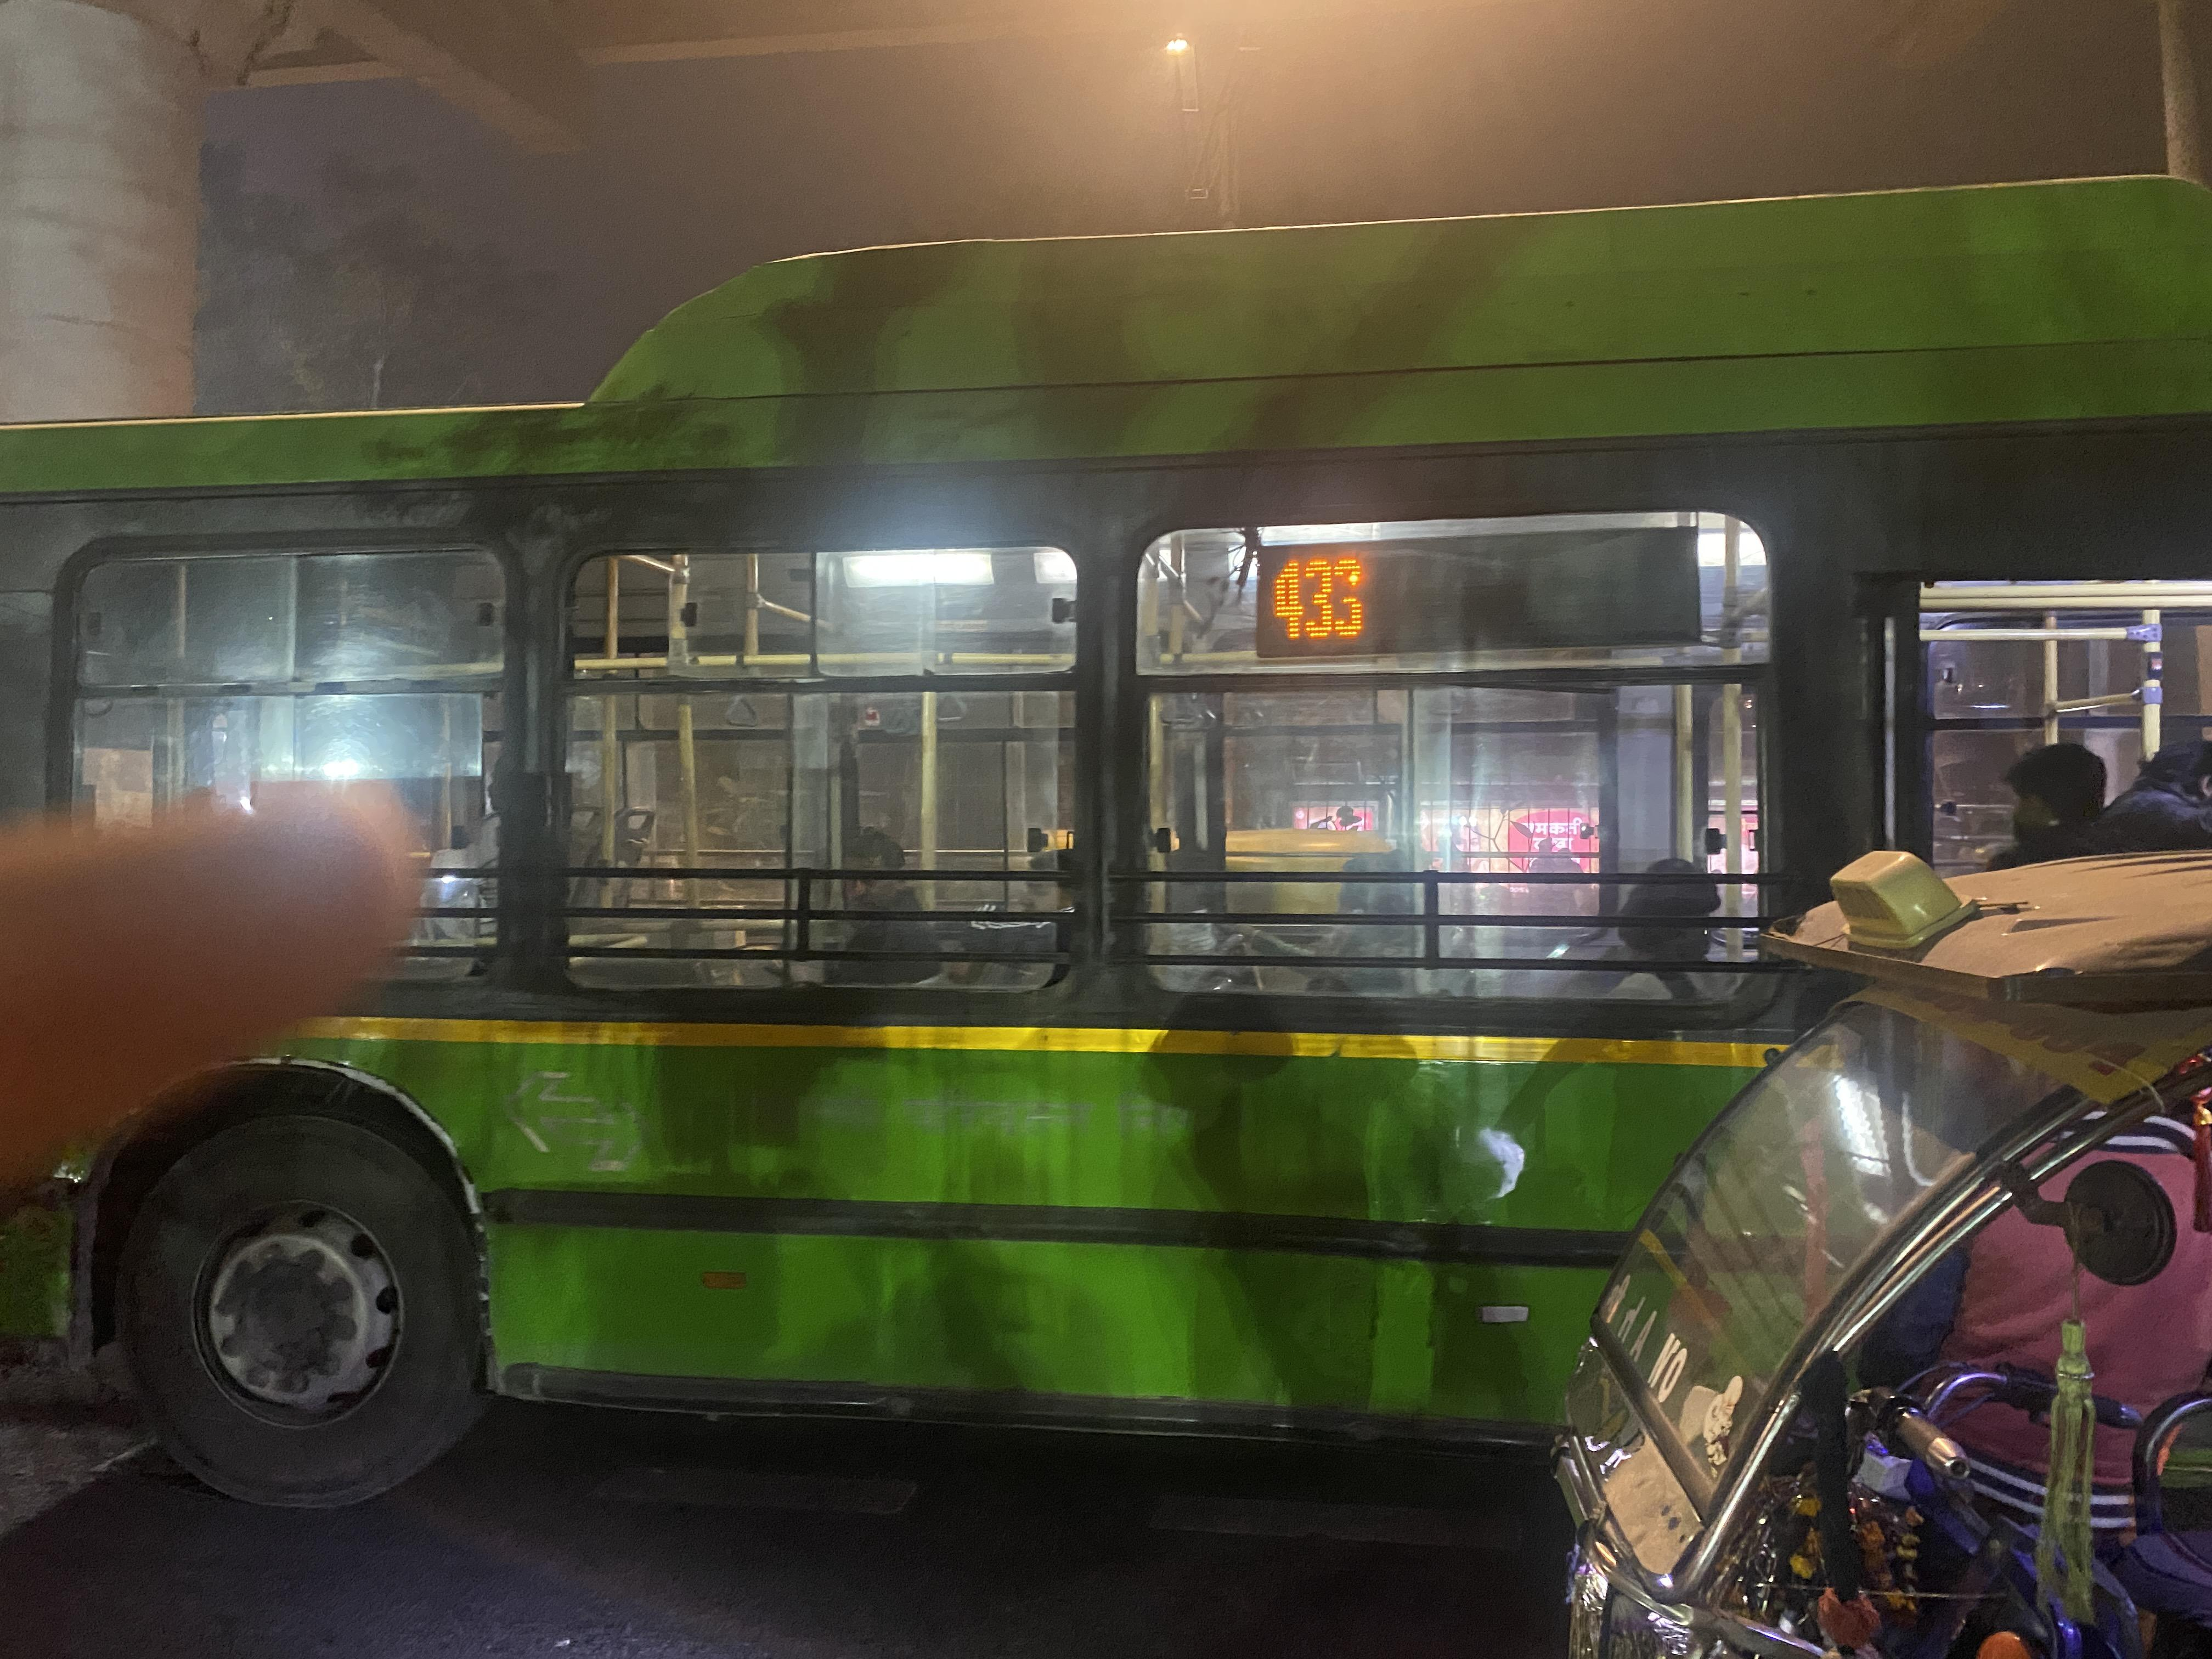Bus: (0, 171, 2212, 1488)
Display Board: (1240, 521, 1778, 687)
